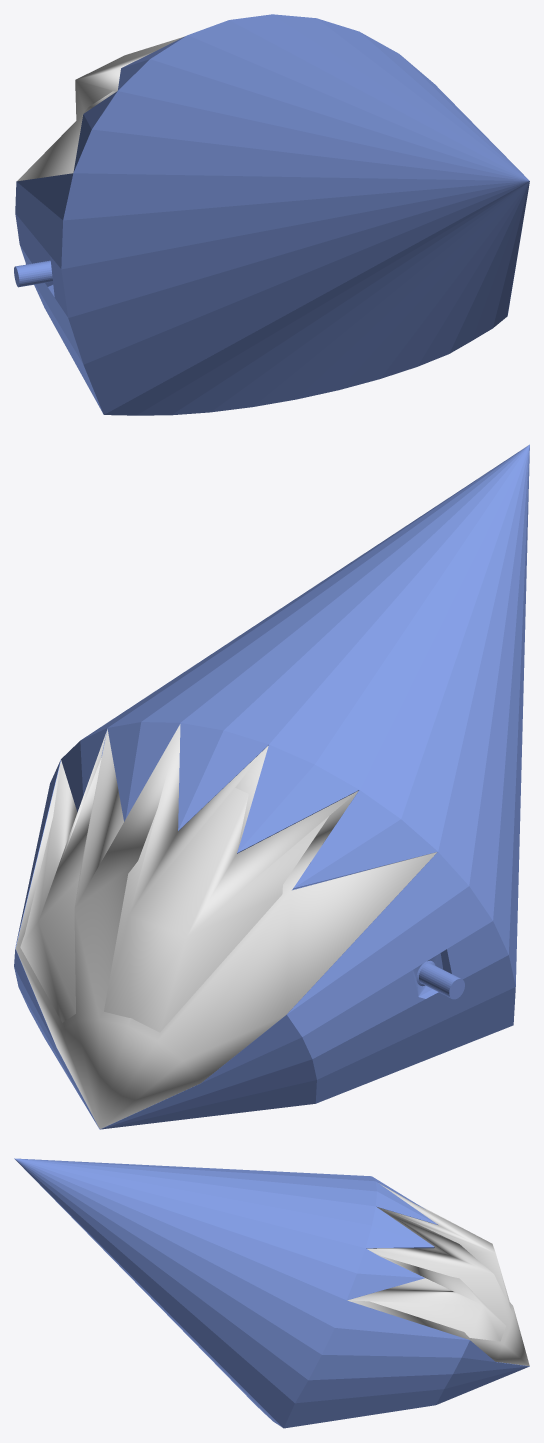
The model's file is Cockpit8.fbx.
3 renders of one model, top to bottom at view 1: azimuth 30°, elevation 25°; view 2: azimuth 150°, elevation 25°; view 3: azimuth 270°, elevation 25°, orthographic. The views are drawn at different scales.
Visible parts, largest first — view 1: Cone, Cone.001; view 2: Cone, Cone.001; view 3: Cone, Cone.001.
Boxes of the visible parts, x1=… form: Cone: x1=14, y1=14, x2=529, y2=415; Cone.001: x1=17, y1=36, x2=184, y2=181; Cone: x1=14, y1=444, x2=529, y2=1129; Cone.001: x1=15, y1=724, x2=436, y2=1128; Cone: x1=14, y1=1158, x2=529, y2=1428; Cone.001: x1=347, y1=1183, x2=529, y2=1365.
Bounding box in the file's own units: 7187 × 5415 × 11998.
